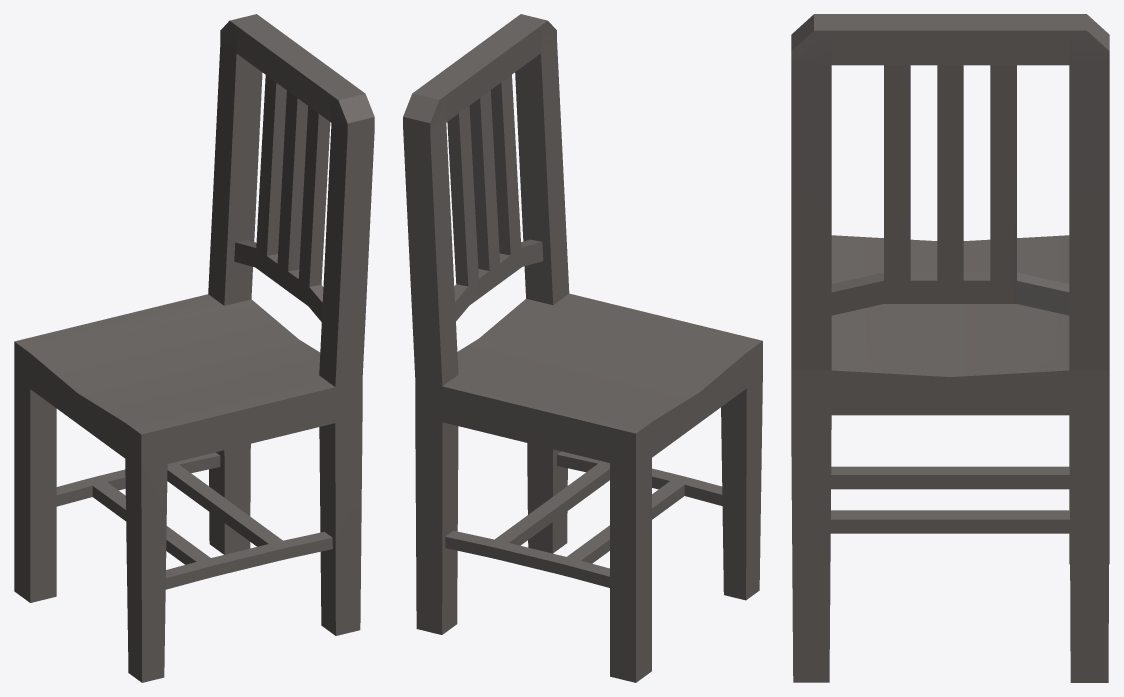
The model's file is Simple_chair.glb.
3 renders of one model, left to right at view 1: azimuth 30°, elevation 25°; view 2: azimuth 150°, elevation 25°; view 3: azimuth 270°, elevation 25°, orthographic. The views are drawn at different scales.
Visible parts, largest first — view 1: pCube25; view 2: pCube25; view 3: pCube25.
Boxes of the visible parts, bbox=[...] form: pCube25: bbox=[14, 14, 374, 682]; pCube25: bbox=[403, 14, 762, 682]; pCube25: bbox=[791, 14, 1109, 682].
Size of the model in its own units: 0.7194 by 1.55 by 0.6787.
Materials: 1 (1 with a texture image).
